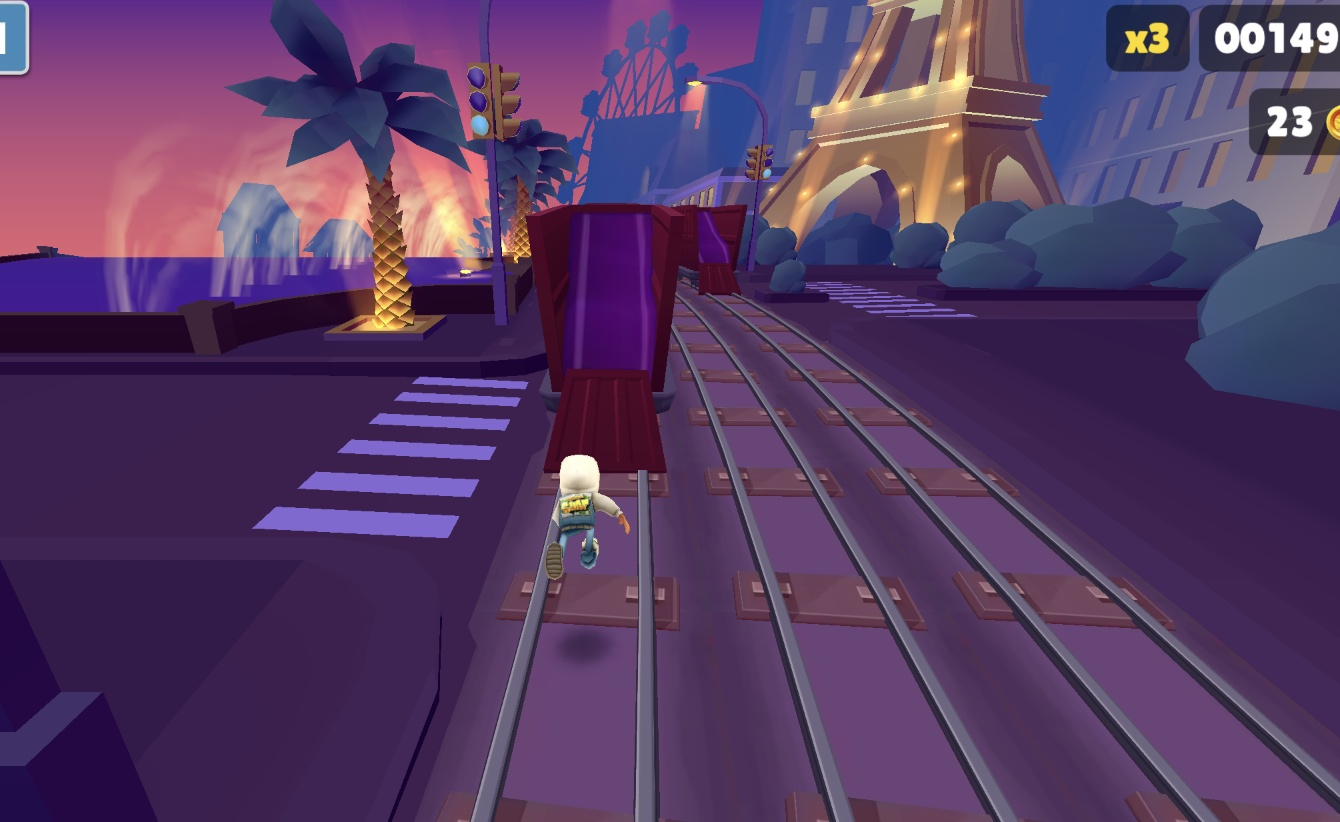train: (524, 205, 693, 486), (692, 205, 751, 298)
